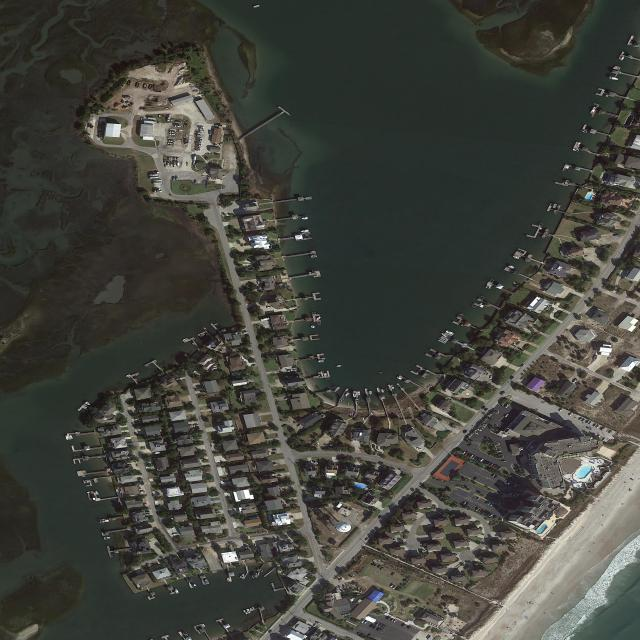ship: (608, 75, 620, 81), (589, 107, 597, 115), (445, 330, 455, 336), (182, 631, 189, 637), (441, 333, 449, 338), (301, 229, 310, 233), (252, 572, 258, 578), (182, 337, 190, 341), (512, 255, 520, 259), (508, 265, 516, 269), (176, 377, 184, 381), (316, 316, 322, 321), (344, 392, 350, 397), (205, 579, 210, 585), (152, 179, 162, 182), (484, 285, 491, 289), (85, 401, 92, 405), (552, 204, 557, 209), (565, 180, 570, 185), (620, 56, 625, 61), (174, 589, 179, 594), (68, 435, 73, 440), (397, 376, 403, 380), (242, 609, 250, 612), (103, 537, 111, 540), (172, 533, 180, 536), (252, 5, 260, 8), (301, 217, 308, 220), (353, 391, 356, 398), (200, 333, 205, 337), (240, 574, 245, 578), (152, 182, 162, 184), (95, 491, 100, 495), (613, 67, 619, 70), (249, 607, 255, 610), (149, 177, 158, 179), (149, 174, 158, 176), (150, 172, 159, 174), (84, 481, 90, 484), (381, 389, 385, 393), (391, 385, 395, 389), (202, 623, 206, 627), (154, 191, 162, 193), (126, 374, 131, 377), (318, 360, 325, 362), (99, 521, 106, 523), (336, 365, 342, 367), (378, 372, 384, 374), (358, 391, 361, 395), (369, 391, 372, 395), (153, 189, 160, 190)
small-vehicle: (572, 378, 578, 384), (167, 115, 171, 122), (499, 391, 506, 395), (316, 622, 322, 626), (417, 447, 423, 451), (484, 511, 490, 515), (492, 515, 498, 519), (195, 144, 202, 147), (175, 121, 182, 124), (327, 444, 334, 447), (406, 625, 411, 629), (521, 364, 525, 369), (559, 408, 564, 412), (519, 348, 524, 352), (316, 441, 320, 446), (360, 620, 365, 624), (363, 621, 368, 625), (385, 616, 390, 620), (596, 435, 601, 439), (390, 584, 395, 588), (463, 430, 468, 434), (469, 454, 474, 458), (466, 453, 471, 457), (476, 458, 481, 462), (482, 460, 487, 464), (484, 460, 489, 464), (486, 462, 491, 466), (496, 466, 501, 470), (504, 414, 509, 418), (512, 422, 517, 426), (494, 465, 499, 469), (486, 512, 491, 516), (480, 509, 485, 513), (475, 507, 480, 511), (513, 484, 518, 488), (515, 494, 520, 498), (485, 501, 490, 505), (487, 502, 492, 506), (185, 139, 188, 145), (175, 125, 181, 128), (169, 133, 175, 136), (168, 140, 174, 143), (447, 399, 453, 402), (312, 461, 318, 464), (585, 427, 591, 430), (224, 481, 230, 484), (498, 436, 504, 439), (601, 438, 607, 441), (514, 421, 520, 424), (554, 302, 558, 306), (377, 627, 381, 631), (273, 537, 277, 541), (393, 619, 397, 623), (376, 622, 380, 626), (390, 618, 394, 622), (338, 585, 342, 589), (490, 463, 494, 467), (462, 451, 466, 455), (465, 452, 469, 456), (479, 458, 483, 462), (492, 464, 496, 468), (474, 456, 478, 460), (609, 430, 613, 434), (586, 420, 590, 424), (478, 508, 482, 512), (507, 481, 511, 485), (490, 503, 494, 507), (463, 501, 467, 505), (257, 281, 260, 286), (176, 176, 179, 181), (267, 306, 272, 309), (571, 268, 576, 271), (135, 418, 140, 421), (313, 624, 318, 627), (271, 452, 276, 455), (402, 578, 407, 581), (471, 456, 476, 459), (468, 444, 473, 447), (474, 432, 479, 435), (588, 422, 593, 425), (511, 424, 516, 427), (480, 427, 485, 430), (350, 573, 355, 576), (482, 511, 487, 514), (348, 574, 353, 577), (338, 578, 343, 581), (489, 514, 494, 517), (195, 147, 202, 149), (196, 137, 203, 139), (196, 140, 203, 142), (195, 142, 202, 144), (196, 386, 203, 388), (214, 512, 221, 514), (195, 149, 201, 151), (177, 162, 180, 166), (198, 126, 204, 128), (170, 131, 176, 133), (168, 143, 174, 145), (167, 145, 173, 147), (199, 130, 205, 132), (170, 162, 173, 166), (569, 413, 573, 416), (485, 408, 489, 411), (314, 444, 318, 447), (277, 537, 280, 541), (228, 545, 231, 549), (336, 587, 340, 590), (378, 624, 382, 627), (402, 623, 406, 626), (372, 626, 376, 629), (268, 630, 272, 633), (393, 586, 397, 589), (372, 445, 375, 449), (169, 528, 175, 530), (581, 418, 585, 421), (594, 424, 598, 427), (596, 425, 600, 428), (483, 423, 487, 426), (494, 475, 498, 478), (366, 538, 370, 541), (379, 516, 383, 519), (373, 530, 376, 534), (374, 564, 378, 567), (377, 565, 381, 568), (392, 572, 395, 576), (380, 567, 384, 570), (492, 474, 496, 477), (513, 493, 517, 496), (507, 492, 511, 495), (473, 477, 477, 480), (477, 497, 481, 500), (293, 367, 298, 369), (287, 370, 292, 372), (200, 391, 205, 393), (252, 365, 257, 367), (285, 398, 290, 400), (194, 424, 199, 426), (142, 503, 147, 505), (128, 456, 133, 458), (146, 514, 151, 516), (279, 486, 284, 488), (277, 475, 282, 477), (172, 177, 175, 180), (368, 634, 371, 637), (377, 446, 380, 449), (343, 585, 346, 588), (509, 493, 512, 496), (174, 164, 176, 168), (167, 162, 169, 166), (294, 369, 298, 371), (272, 449, 276, 451), (283, 489, 287, 491), (502, 461, 506, 463), (478, 429, 482, 431), (392, 539, 396, 541), (195, 180, 197, 183), (490, 376, 492, 379), (199, 129, 204, 130)
